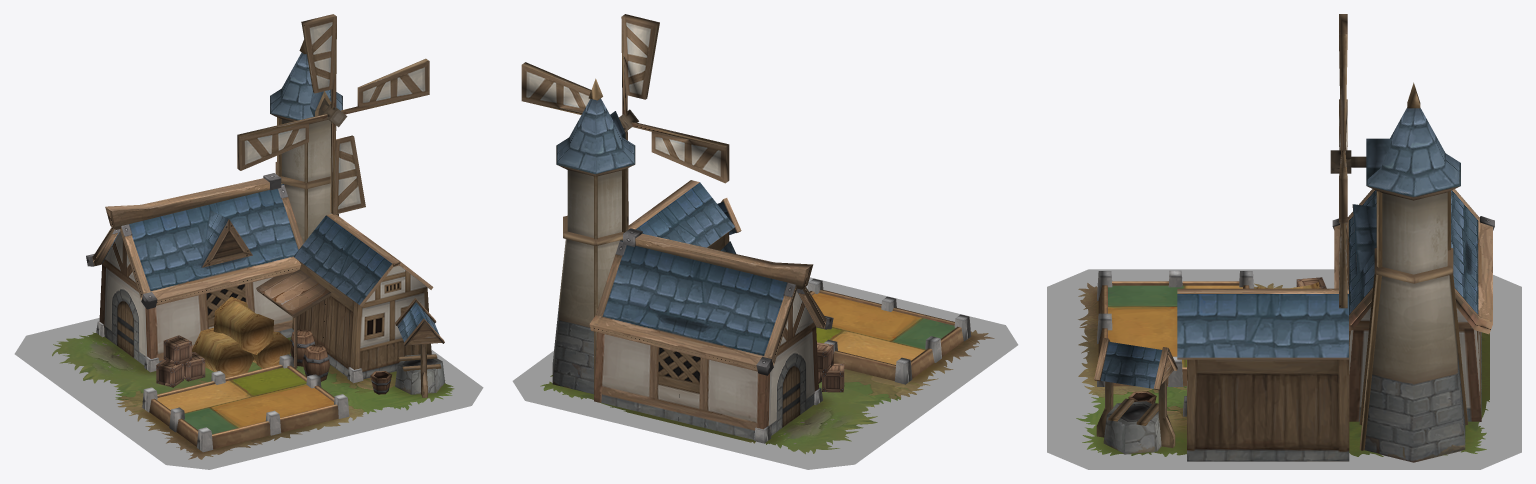
File: farm_02.fbx
3 views of the same model, side by side, from view 1: azimuth 30°, elevation 25°; view 2: azimuth 150°, elevation 25°; view 3: azimuth 270°, elevation 25° (orthographic). The views are drawn at different scales.
Visible parts, largest first — view 1: polySurface9, polySurface12, shadow, polySurface11, fan, floor, polySurface1, polySurface28, polySurface24, polySurface25; view 2: polySurface9, polySurface1, shadow, polySurface11, fan, floor, polySurface12, polySurface25; view 3: polySurface1, polySurface12, shadow, polySurface9, polySurface11, polySurface24, floor, fan.
Part boxes in pixels (x1=…): polySurface9: x1=86, y1=173, x2=331, y2=372; polySurface12: x1=290, y1=214, x2=433, y2=394; shadow: x1=14, y1=318, x2=483, y2=469; polySurface11: x1=142, y1=354, x2=349, y2=452; fan: x1=237, y1=14, x2=429, y2=214; floor: x1=52, y1=332, x2=454, y2=459; polySurface1: x1=270, y1=39, x2=342, y2=243; polySurface28: x1=192, y1=296, x2=292, y2=377; polySurface24: x1=395, y1=298, x2=444, y2=397; polySurface25: x1=156, y1=335, x2=205, y2=387; polySurface9: x1=589, y1=228, x2=833, y2=443; polySurface1: x1=552, y1=78, x2=635, y2=394; shadow: x1=512, y1=277, x2=1018, y2=469; polySurface11: x1=807, y1=278, x2=971, y2=384; fan: x1=521, y1=14, x2=729, y2=216; floor: x1=540, y1=330, x2=994, y2=454; polySurface12: x1=628, y1=180, x2=734, y2=250; polySurface25: x1=817, y1=342, x2=844, y2=392; polySurface1: x1=1359, y1=82, x2=1467, y2=462; polySurface12: x1=1128, y1=288, x2=1349, y2=461; shadow: x1=1047, y1=269, x2=1521, y2=469; polySurface9: x1=1332, y1=189, x2=1494, y2=421; polySurface11: x1=1097, y1=270, x2=1253, y2=386; polySurface24: x1=1094, y1=337, x2=1177, y2=454; floor: x1=1076, y1=283, x2=1489, y2=456; fan: x1=1330, y1=14, x2=1366, y2=308.
Size of the model in its own units: 9.11 by 7.6 by 8.03.
